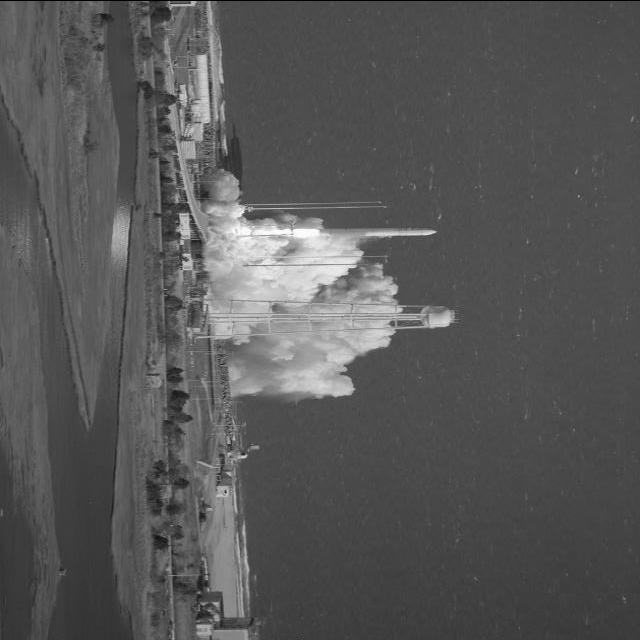missile: (295, 224, 439, 240)
